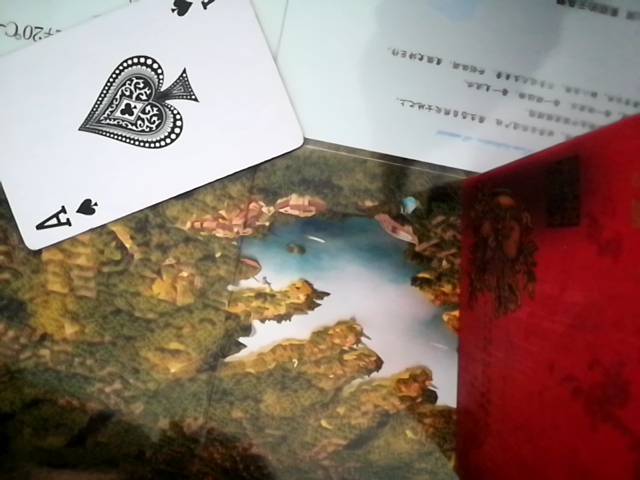ht a: (0, 0, 309, 256)
